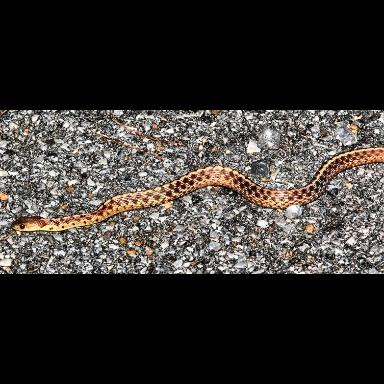snake: (7, 148, 384, 235)
